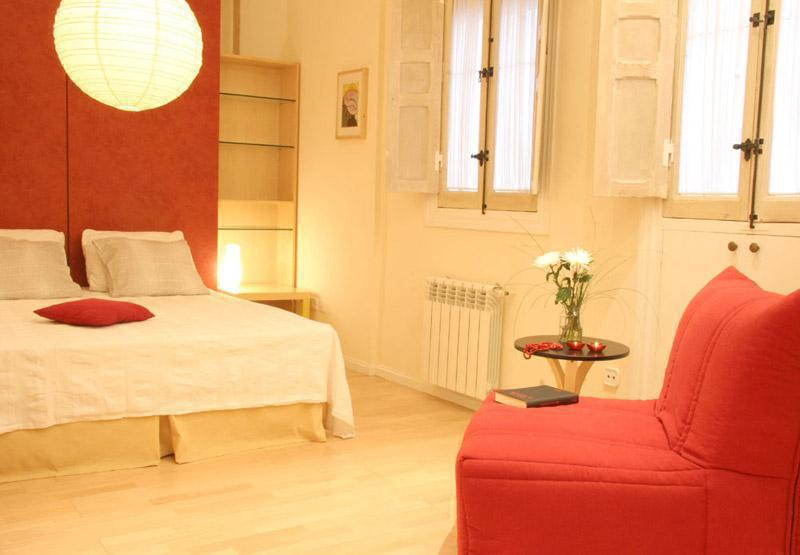Cama: (3, 228, 338, 462)
Sanitario: (453, 265, 795, 539)
Ventana: (664, 3, 793, 227), (433, 9, 546, 217)
